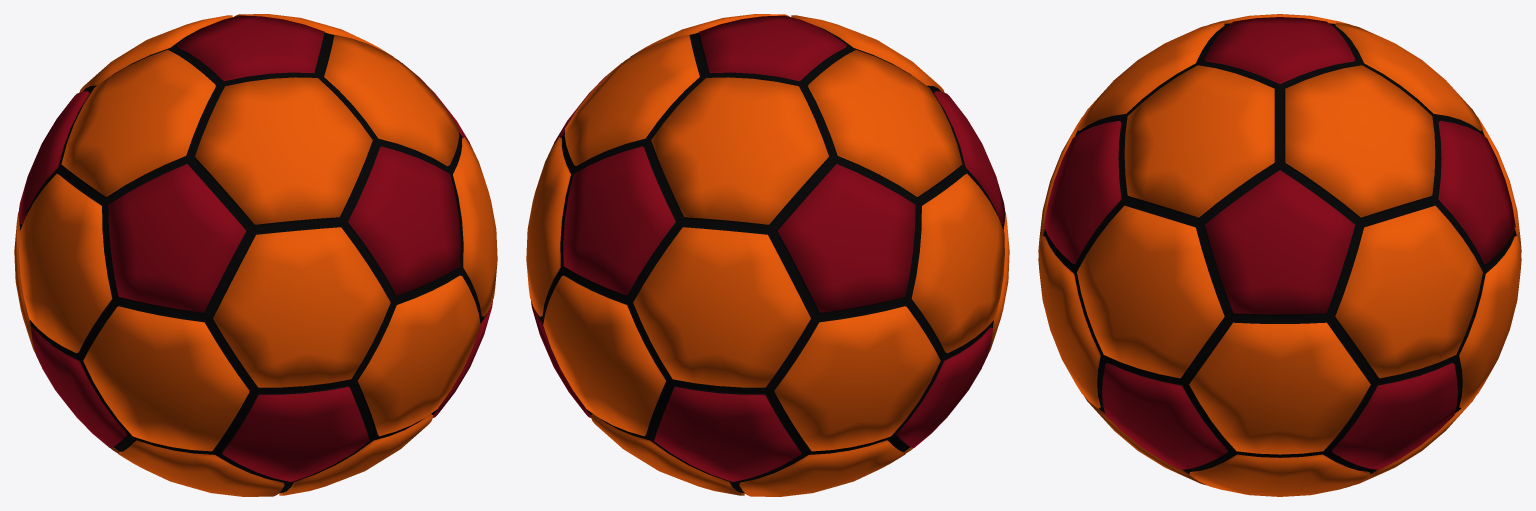
The model's file is soccerball.fbx.
The picture shows the model from 3 angles, left to right: view 1: azimuth 30°, elevation 25°; view 2: azimuth 150°, elevation 25°; view 3: azimuth 270°, elevation 25°; orthographic projection.
Parts seen in each view (by area): view 1: Icosphere; view 2: Icosphere; view 3: Icosphere.
Boxes of the visible parts, x1,y1,x2,y2 form: Icosphere: [14, 14, 497, 496]; Icosphere: [526, 14, 1009, 496]; Icosphere: [1038, 14, 1521, 496].
Bounding box in the file's own units: 84.59 × 84.59 × 84.57.
